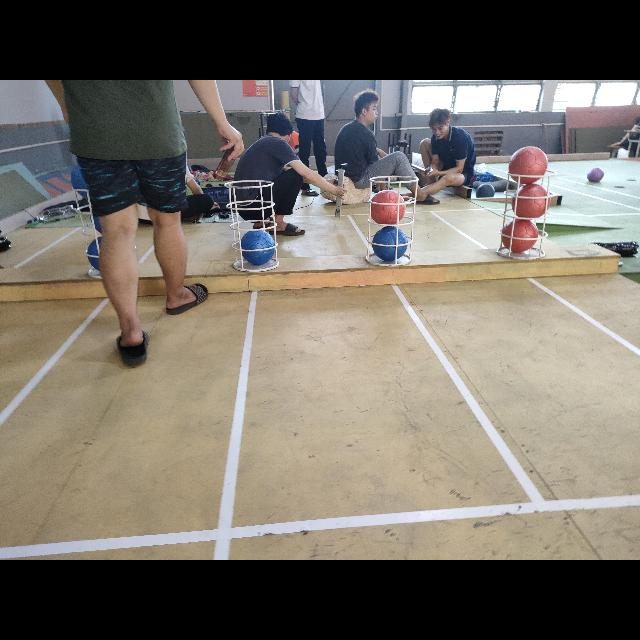B: (239, 229, 277, 265), (372, 226, 410, 260)
R: (509, 144, 549, 186), (500, 218, 538, 255), (368, 188, 407, 224), (510, 186, 550, 218)
